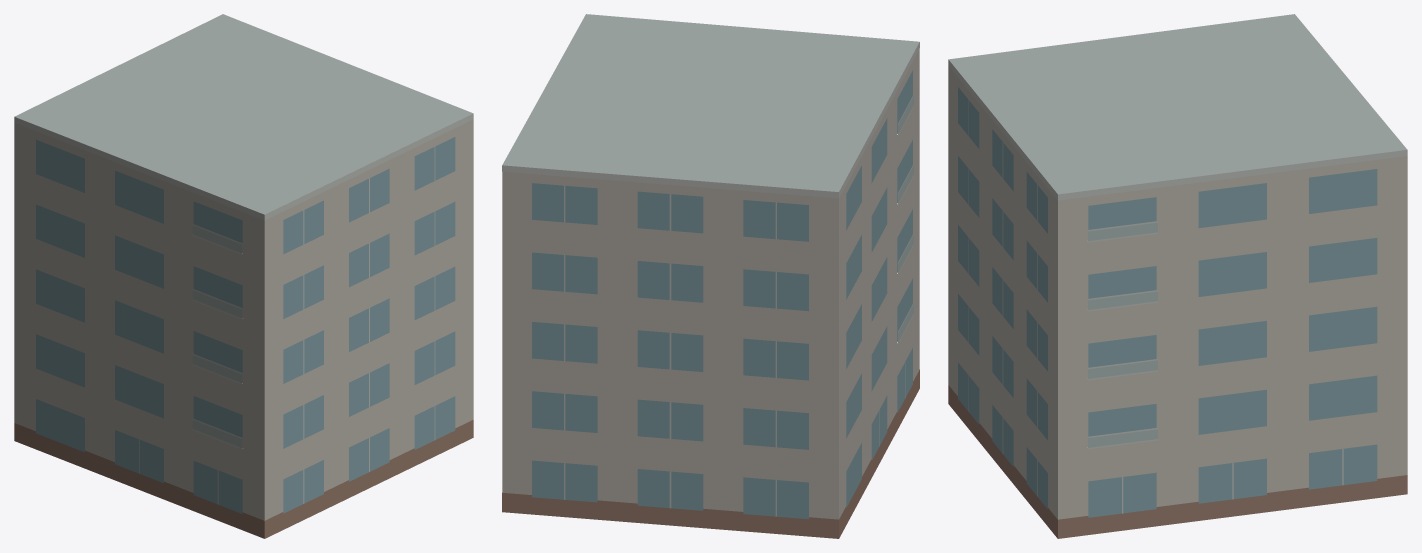
The model's file is survey-upis-32523337.glb.
3 renders of one model, left to right at view 1: azimuth 30°, elevation 25°; view 2: azimuth 150°, elevation 25°; view 3: azimuth 270°, elevation 25°, orthographic. The views are drawn at different scales.
Visible parts, largest first — view 1: survey-upis-32523337.tmp; view 2: survey-upis-32523337.tmp; view 3: survey-upis-32523337.tmp.
Part boxes in pixels (box(x1,y1,x2,y2)): survey-upis-32523337.tmp: box(14, 14, 473, 538); survey-upis-32523337.tmp: box(502, 14, 919, 538); survey-upis-32523337.tmp: box(948, 14, 1407, 538).
Size of the model in its own units: 15.17 by 13.5 by 16.32.
